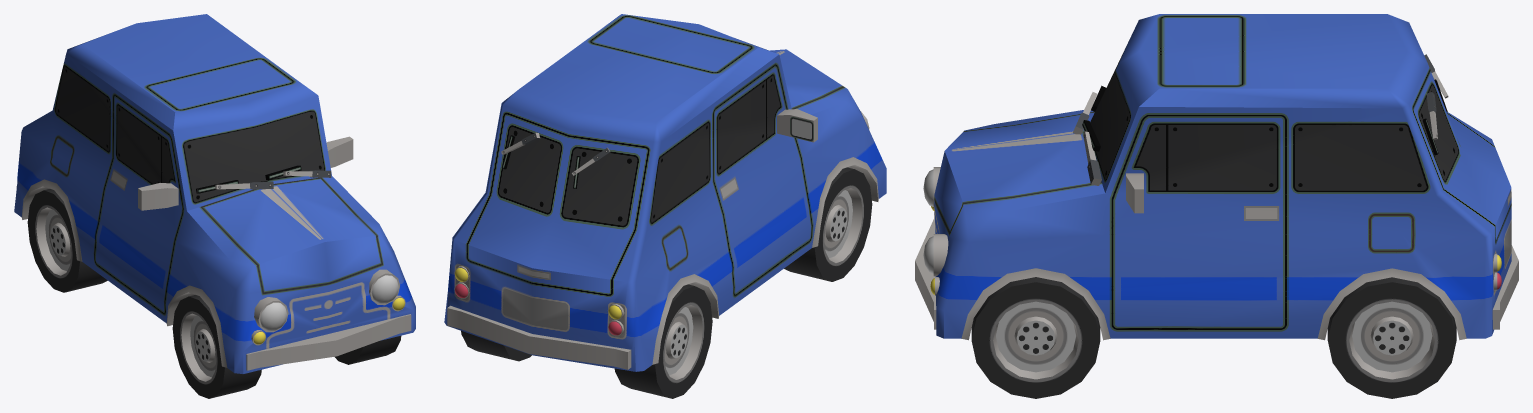
Rendered from fe529cc7-70cc-4482-b26a-a6a8cee0edc7.glb.
The picture shows the model from 3 angles, left to right: view 1: azimuth 30°, elevation 25°; view 2: azimuth 150°, elevation 25°; view 3: azimuth 270°, elevation 25°; orthographic projection. The views are drawn at different scales.
Visible parts, largest first — view 1: Car, Wheel_a1, Wheel__b, Wheel__c, Windshield_wipers_c1, Windshield_wipers_b2; view 2: Car, Wheel__b, Wheel_a1, Wheel__d, Windshield_wipers_b1; view 3: Car, Wheel__c, Wheel__d, Windshield_wipers_b2, Windshield_wipers_b1.
Boxes of the visible parts, x1,y1,x2,y2 form: Car: (14, 14, 415, 373); Wheel_a1: (172, 295, 261, 398); Wheel__b: (27, 189, 107, 292); Wheel__c: (334, 336, 401, 364); Windshield_wipers_c1: (196, 180, 273, 193); Windshield_wipers_b2: (265, 165, 331, 179); Car: (444, 14, 886, 371); Wheel__b: (614, 284, 712, 398); Wheel_a1: (784, 167, 872, 281); Wheel__d: (461, 331, 531, 361); Windshield_wipers_b1: (501, 132, 539, 169); Car: (915, 14, 1518, 340); Wheel__c: (971, 277, 1100, 398); Wheel__d: (1327, 277, 1456, 398); Windshield_wipers_b2: (1082, 120, 1101, 185); Windshield_wipers_b1: (1422, 92, 1438, 155).
Size of the model in its own units: 75.86 by 82.09 by 153.
Materials: 1 (1 with a texture image).
